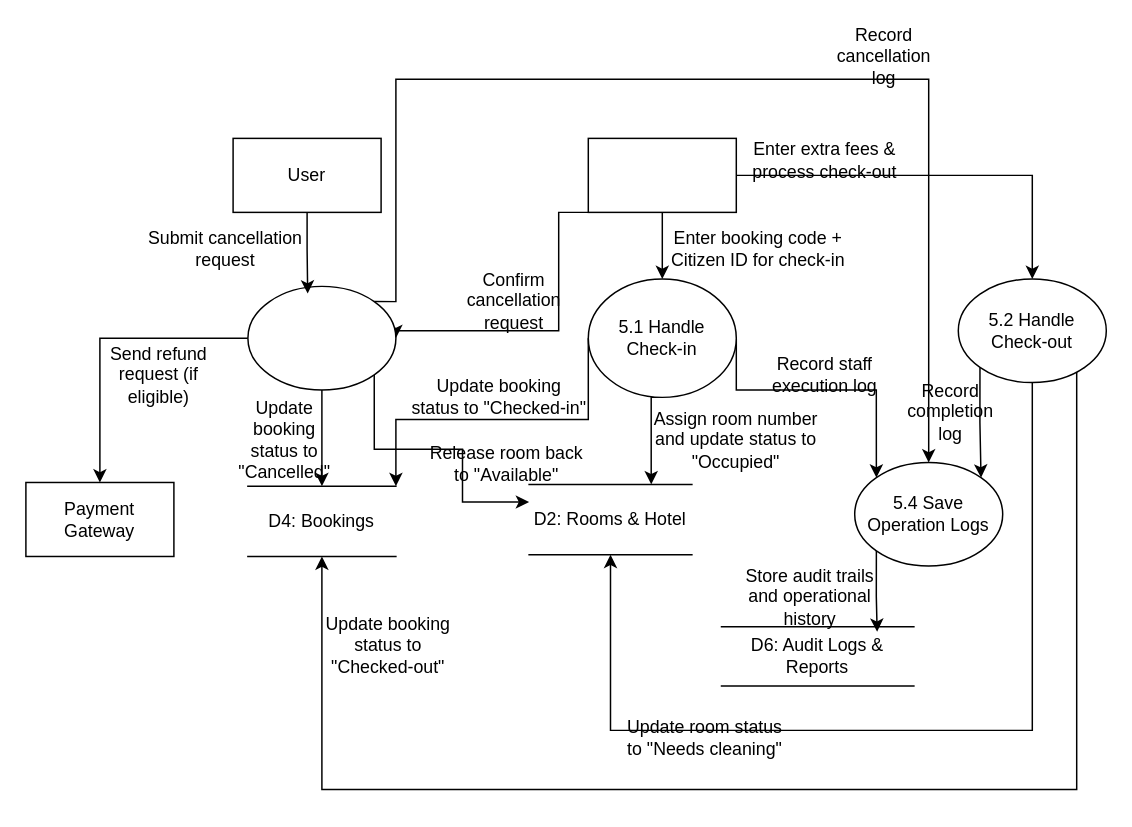
Some shapes in this 1132 by 827 pixel diagram are drawn without their labels. Here are the shapes that lost their labels. From the top down, the centre of each, then its label:
At [661,174]: "Admin".
At [321,337]: "5.3 Handle Cancellation & Refund".
